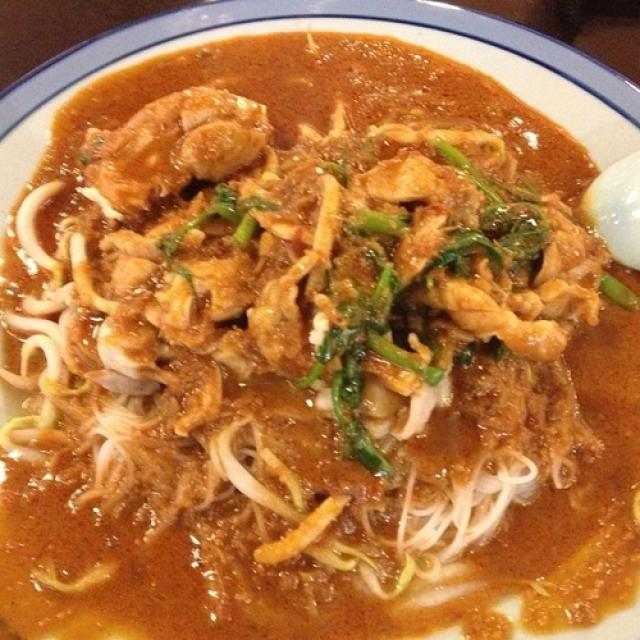面条主食: (9, 18, 621, 626)
